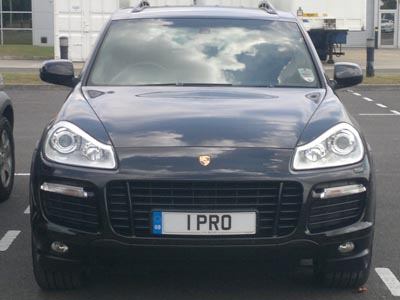licencePlate: (154, 209, 257, 236)
